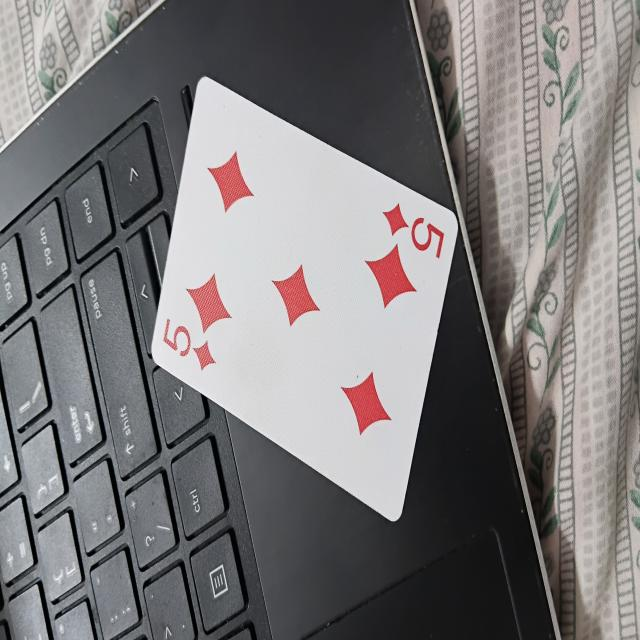5D: (152, 91, 464, 504)
